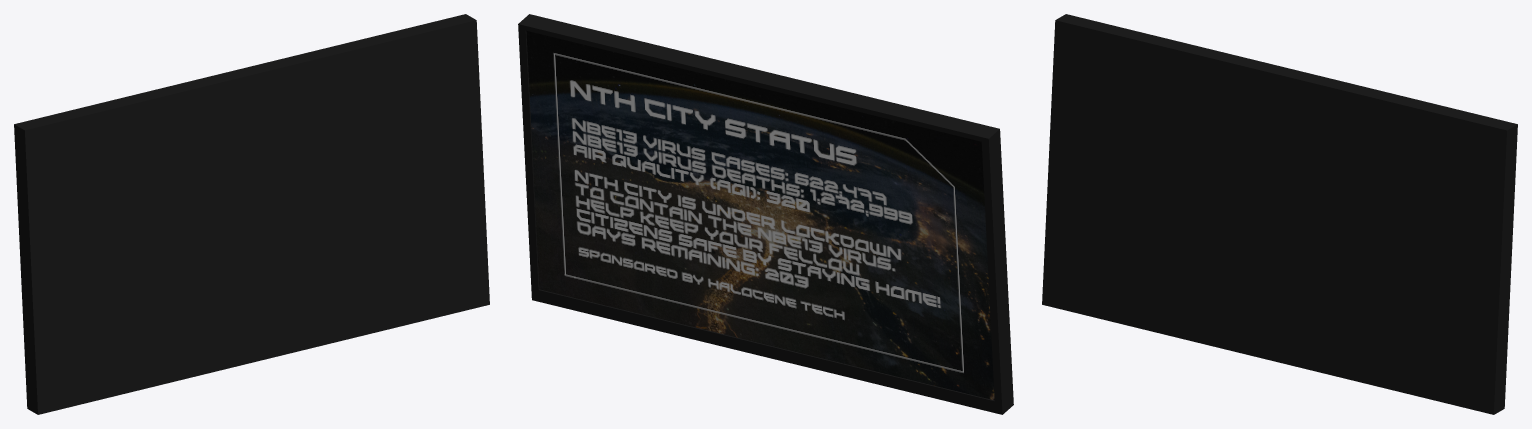
3 views of the same model, side by side, from view 1: azimuth 30°, elevation 25°; view 2: azimuth 150°, elevation 25°; view 3: azimuth 330°, elevation 25° (orthographic). The views are drawn at different scales.
Visible parts, largest first — view 1: pCube15; view 2: pCube15; view 3: pCube15.
Part boxes in pixels (x1,y1,x2,y2): pCube15: [14, 14, 489, 414]; pCube15: [518, 14, 1013, 414]; pCube15: [1042, 14, 1517, 414].
Bounding box in the file's own units: 12 × 7.02 × 1.11.
2 materials, 1 textured.
